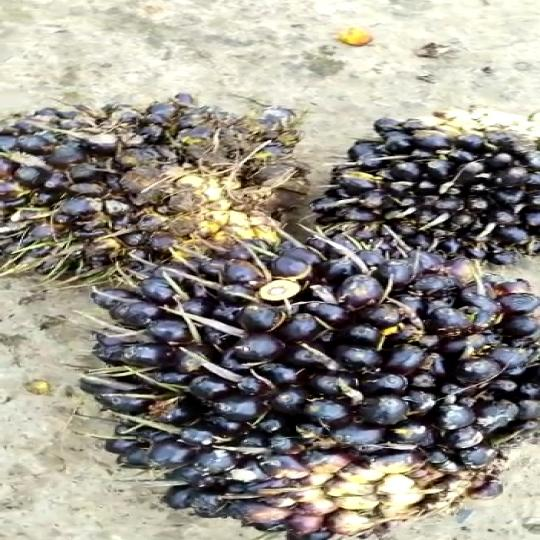mentah: (82, 231, 532, 540), (4, 87, 301, 279), (291, 110, 540, 272)
